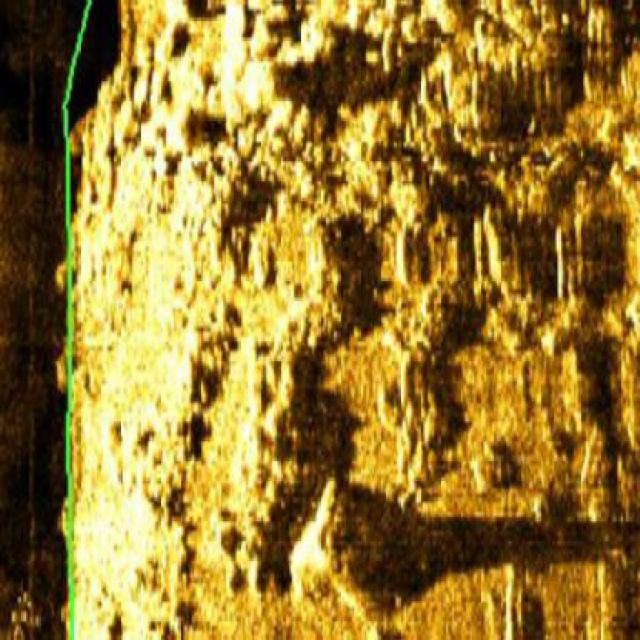bedrock group: (112, 0, 638, 638)
